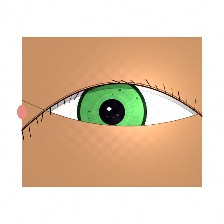hemorrhage_spot: (83, 98, 148, 150)
